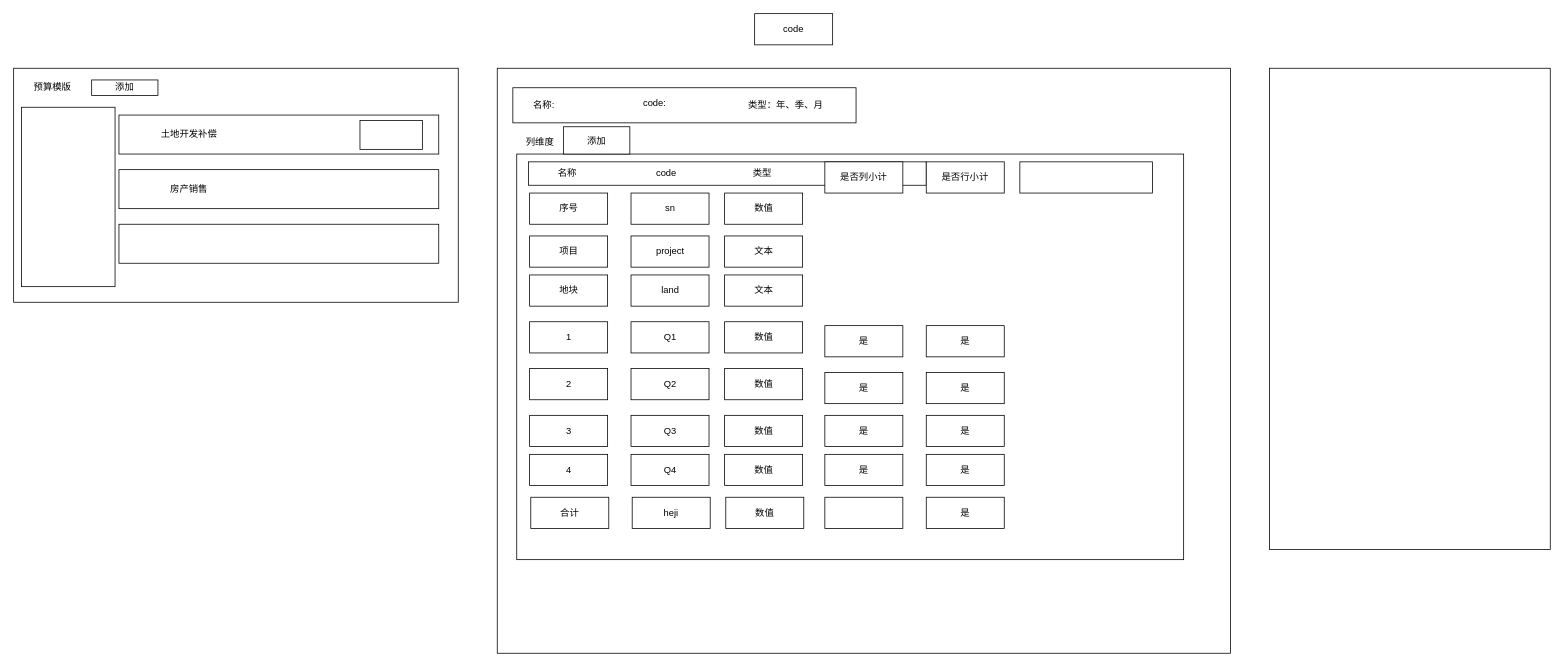
This 1564x667 diagram has some shape labels left out. The centre of each missing label's shape, as x and y in pixels:
分组: point (68, 196)
操作（编辑、删除、关联）: point (1085, 177)
